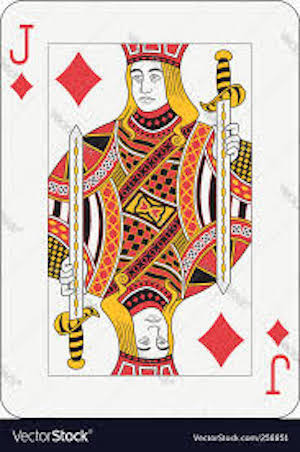JackOfDiamonds: (1, 5, 298, 420)
